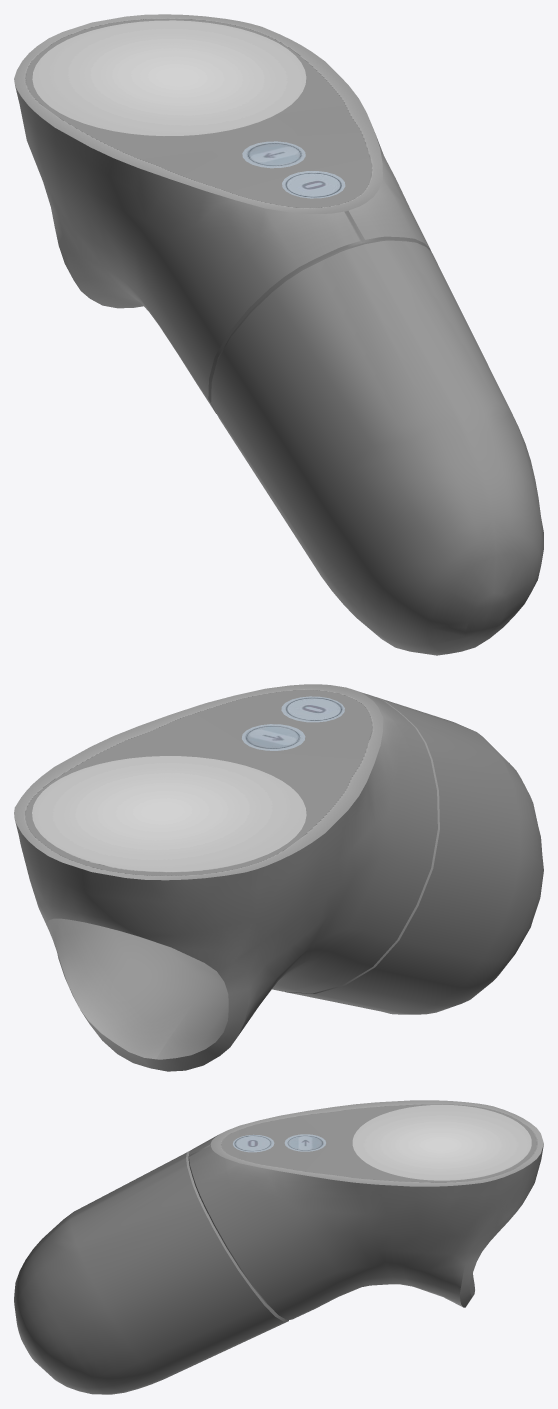
The model's file is Oculus_Go_Controller.fbx.
3 views of the same model, one above another, from view 1: azimuth 30°, elevation 25°; view 2: azimuth 150°, elevation 25°; view 3: azimuth 270°, elevation 25° (orthographic). The views are drawn at different scales.
Parts seen in each view (by area): view 1: Body, Touchpad, Home Button, App Button; view 2: Body, Touchpad, App Button, Home Button; view 3: Body, Touchpad, App Button, Home Button.
Boxes of the visible parts, x1,y1,x2,y2 form: Body: (14,14,543,655); Touchpad: (32,20,306,135); Home Button: (282,171,345,198); App Button: (242,141,305,168); Body: (14,684,543,1071); Touchpad: (32,756,306,871); App Button: (242,724,305,750); Home Button: (281,696,344,722); Body: (14,1100,543,1394); Touchpad: (352,1105,531,1180); App Button: (284,1134,325,1151); Home Button: (233,1134,274,1152).
Size of the model in its own units: 91.05 by 120 by 236.
